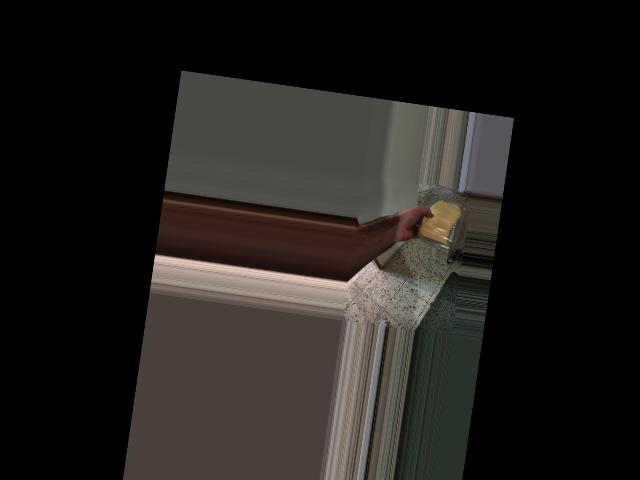cheese: (414, 195, 466, 250)
